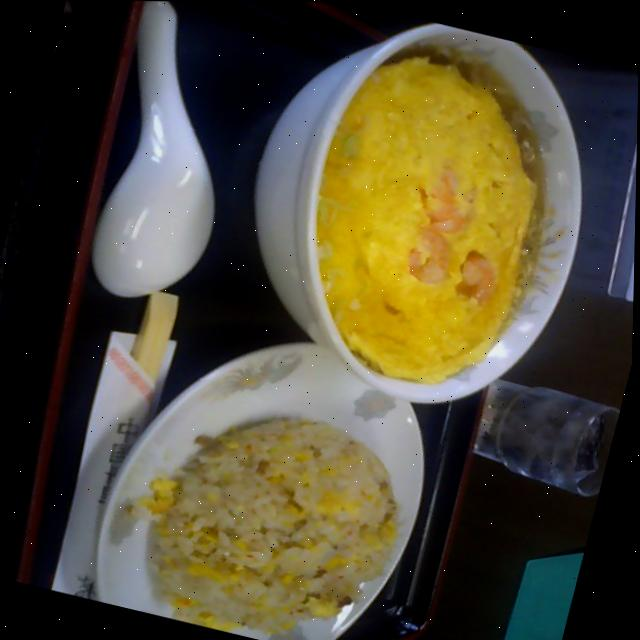面条主食: (202, 1, 626, 425)
